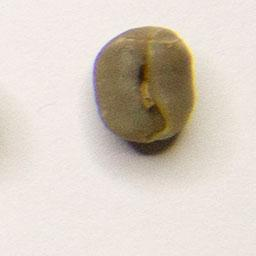peaberry: (90, 22, 199, 147)
